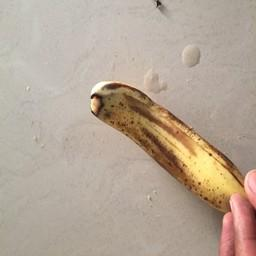Banana Ripe: (70, 73, 256, 217)
